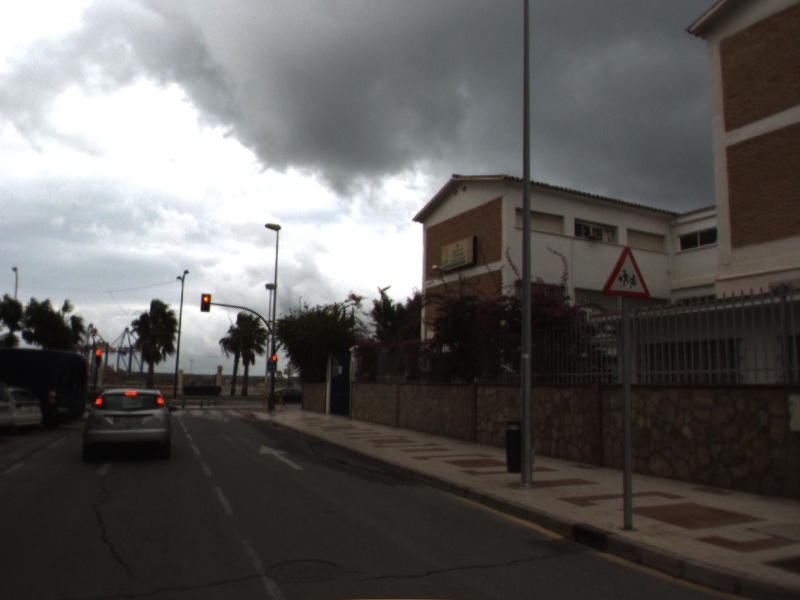STRAIGHT: (257, 443, 306, 472)
